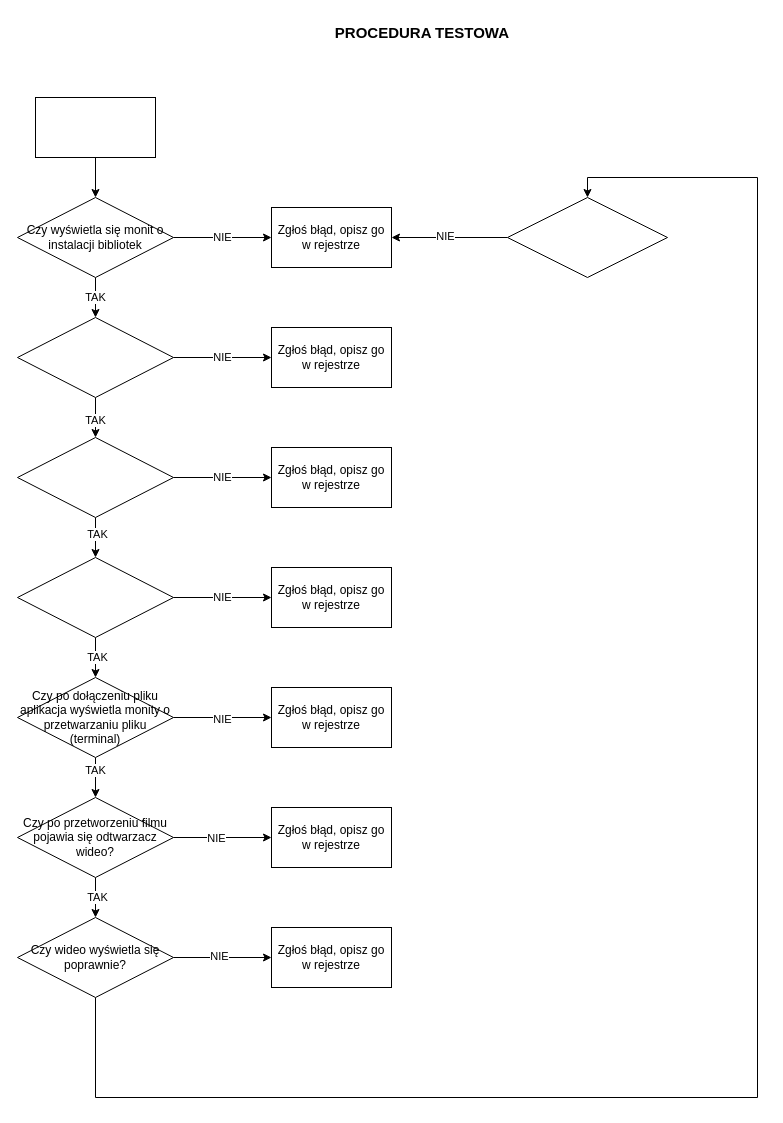
Image size: 783x1123. Some labels were removed from this diagram. The centre of each missing label's shape, as x and y in pixels:
"Czy na wideo widać kwadraty wykrycia" belongs at point (587, 237).
"Czy po nie dołączeniu pliku i zatwierdzeniu aplikacja zgłosiła błąd krytyczny" belongs at point (95, 597).
"Czy po wejściu w link (IP serwera lokalnego) pojawia się aplikacja webowa" belongs at point (95, 477).
"Czy pojawia się IP lokalnego serwera" belongs at point (95, 357).
"Uruchomienie App.py" belongs at point (95, 127).
